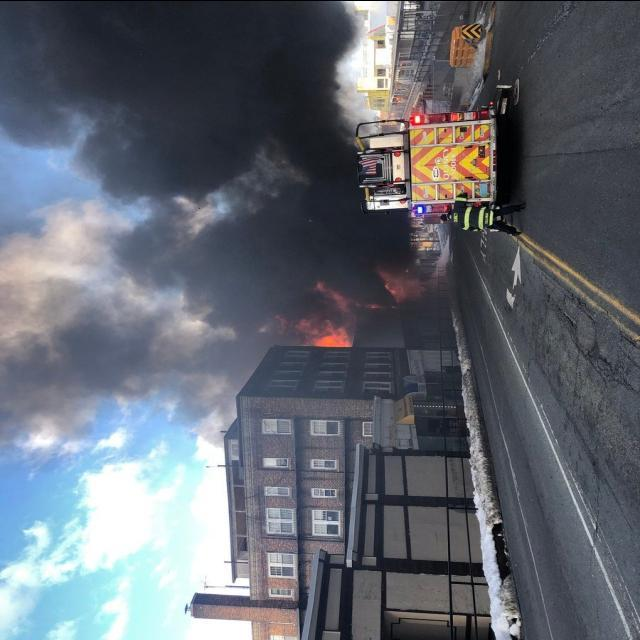Fire: (284, 262, 418, 344)
